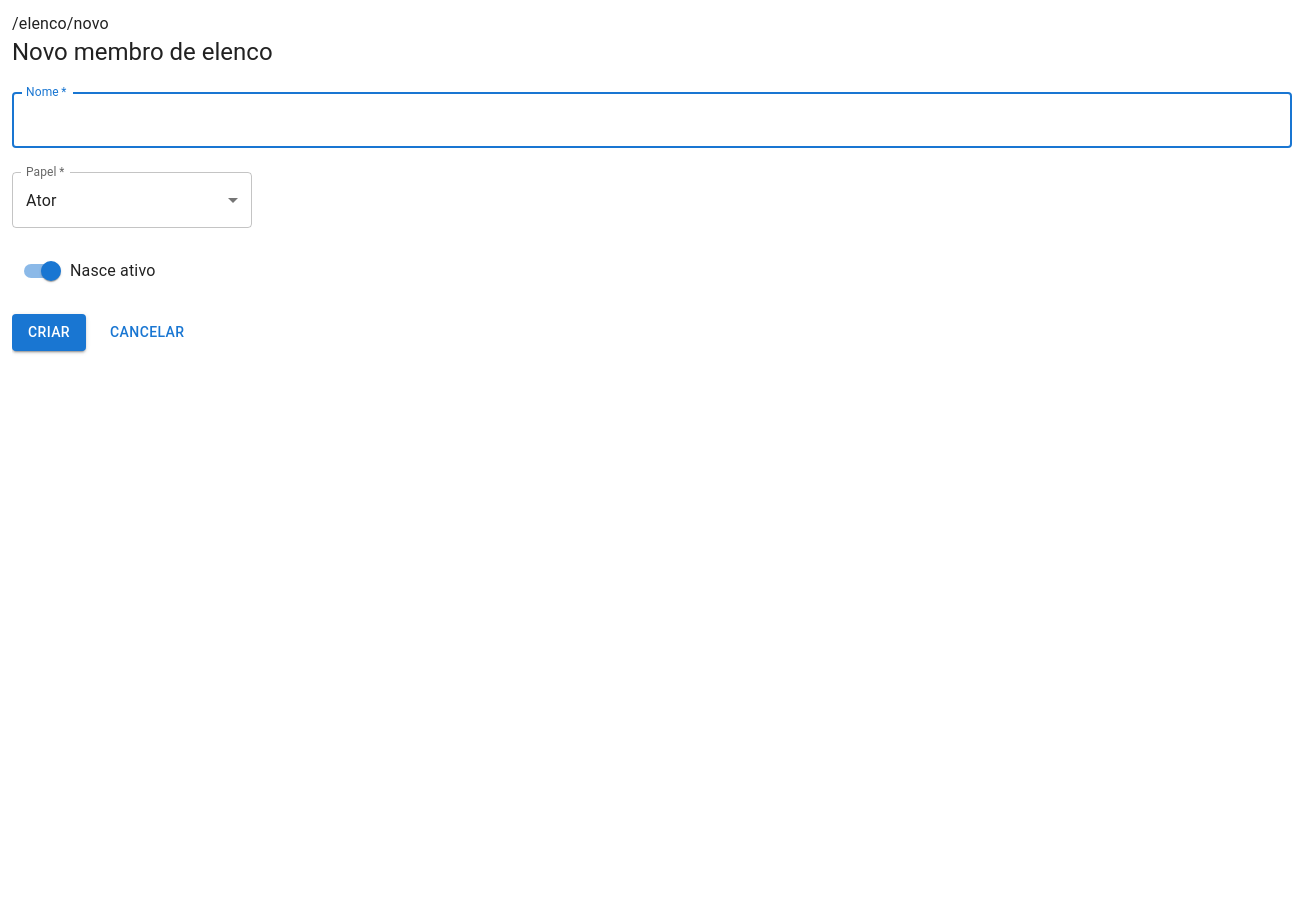
it: CastMemberCreate › givenSoONome_whenCria_thenMandaAtorAtivo
This screenshot has width=1304, height=912.
Type "Vin Diesel" into the field labelled "Nome *" at x=652, y=120, box x1=12 y1=92 x2=1292 y2=148
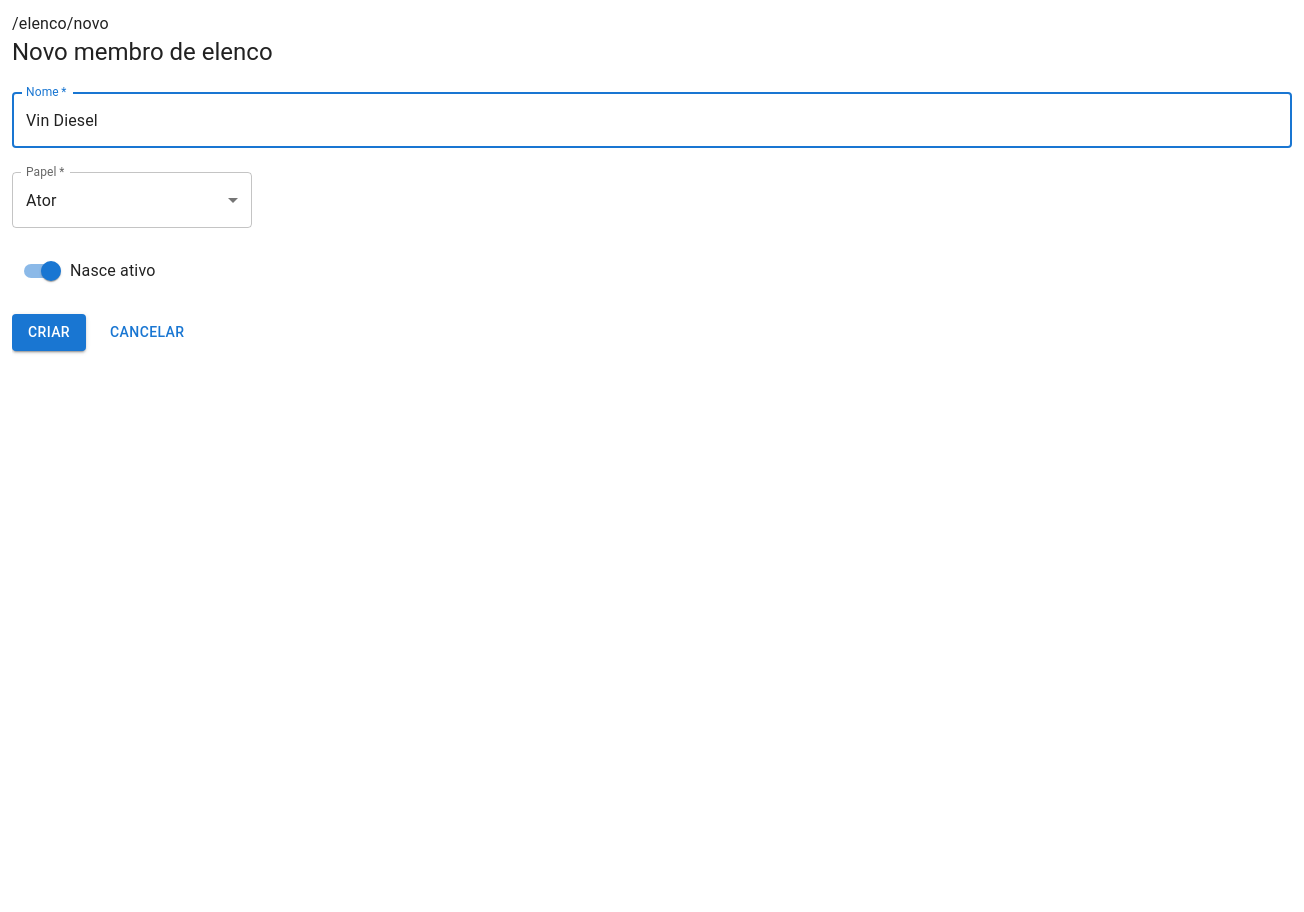
Click the button "Criar" at x=49, y=332, box x1=12 y1=314 x2=86 y2=350
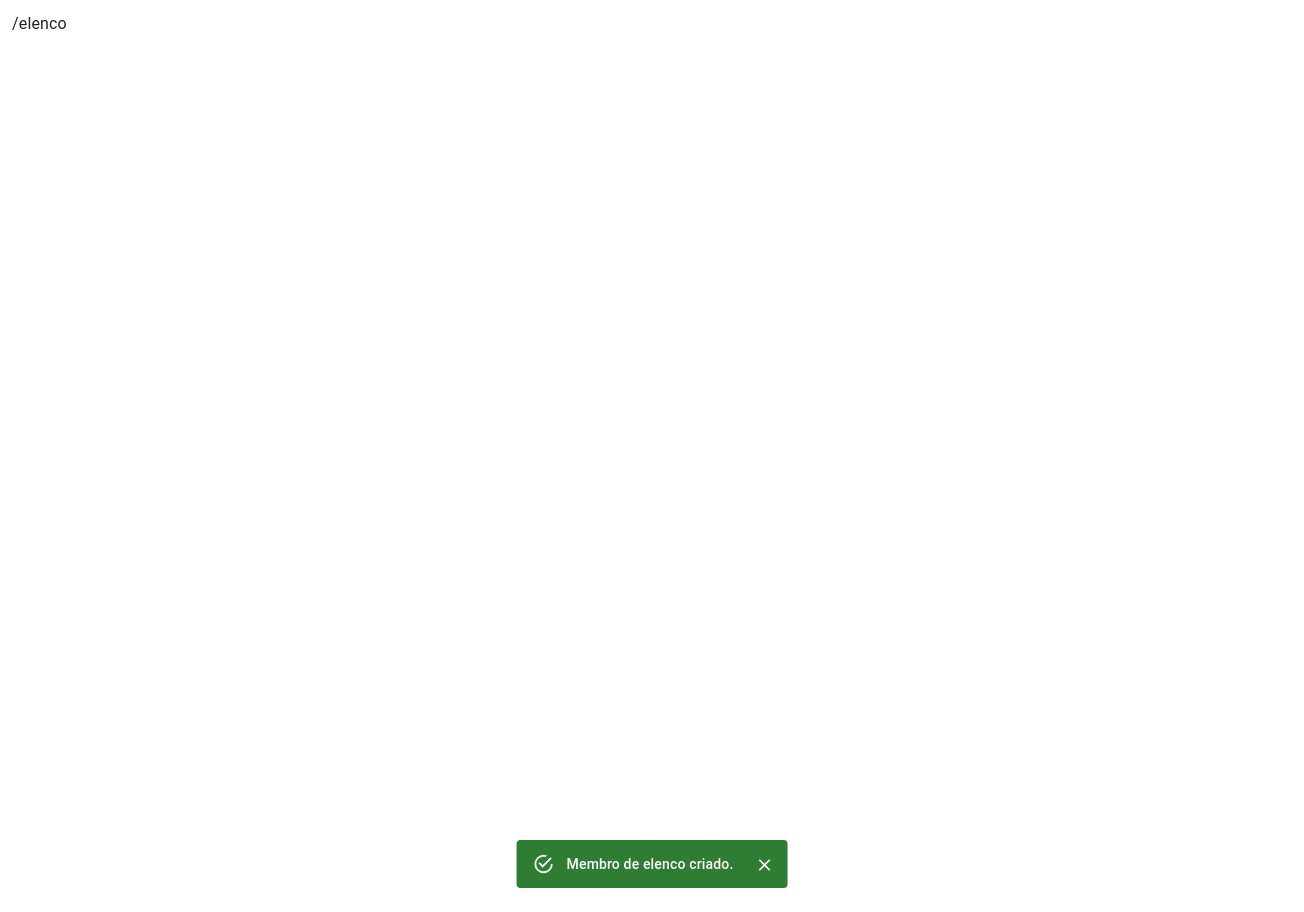
expect the text with test id "rota" reads "/elenco": met, box x1=12 y1=14 x2=67 y2=33
expect the text "Membro de elenco criado." is shown: met, box x1=567 y1=856 x2=734 y2=872
